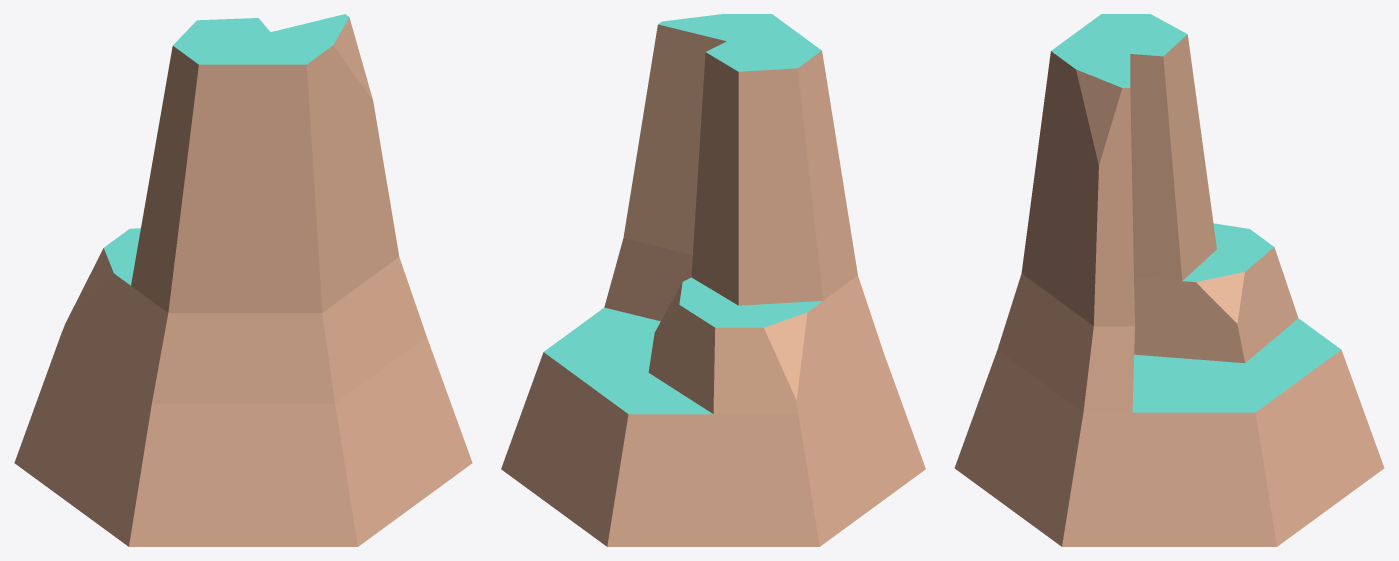
Rendered from rock_tallH.glb.
The picture shows the model from 3 angles, left to right: view 1: azimuth 30°, elevation 25°; view 2: azimuth 150°, elevation 25°; view 3: azimuth 270°, elevation 25°; orthographic projection. The views are drawn at different scales.
Parts seen in each view (by area): view 1: rock_tallH; view 2: rock_tallH; view 3: rock_tallH.
Boxes of the visible parts, x1,y1,x2,y2 form: rock_tallH: (14, 14, 472, 546); rock_tallH: (501, 14, 925, 546); rock_tallH: (954, 14, 1384, 546).
Size of the model in its own units: 0.5749 by 0.7108 by 0.6639.
